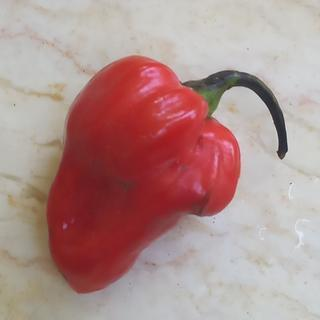Grade-A: (41, 51, 244, 296)
